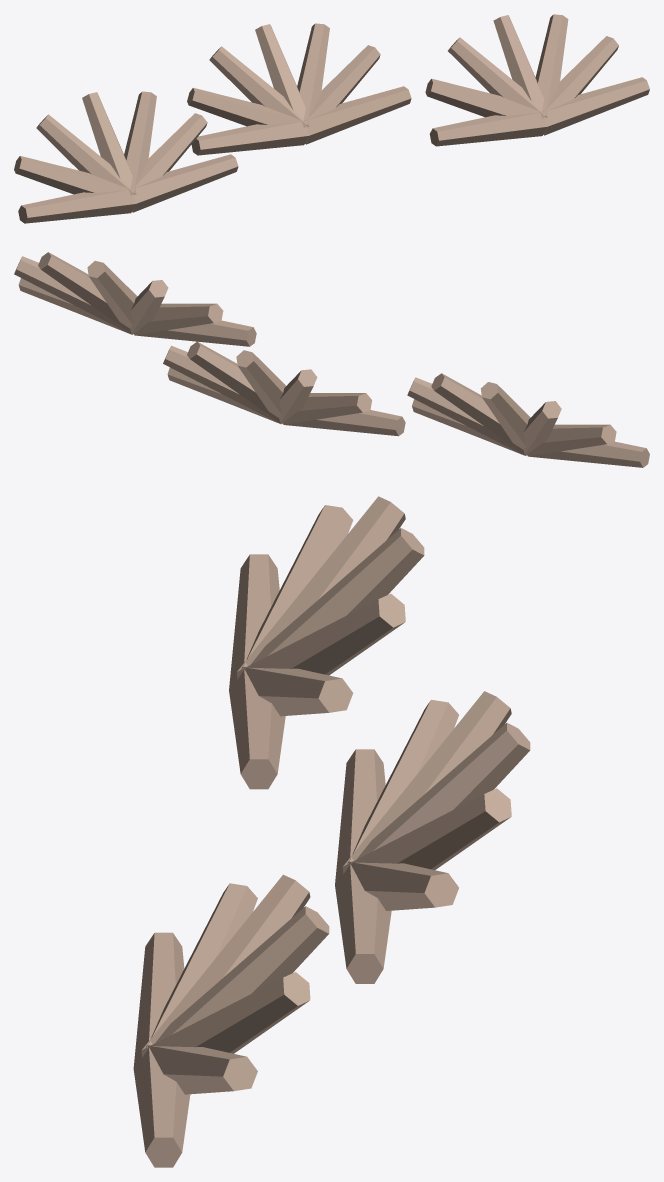
The model's file is map-exclusive-v3__shore_16.glb.
3 renders of one model, top to bottom at view 1: azimuth 30°, elevation 25°; view 2: azimuth 150°, elevation 25°; view 3: azimuth 270°, elevation 25°, orthographic. The views are drawn at different scales.
Visible parts, largest first — view 1: shore_16; view 2: shore_16; view 3: shore_16.
Part boxes in pixels (<box>): shore_16: <box>14,14,649,223</box>; shore_16: <box>14,252,649,467</box>; shore_16: <box>133,496,530,1167</box>.
Bounding box in the file's own units: 2.62 × 0.3799 × 0.7492.
